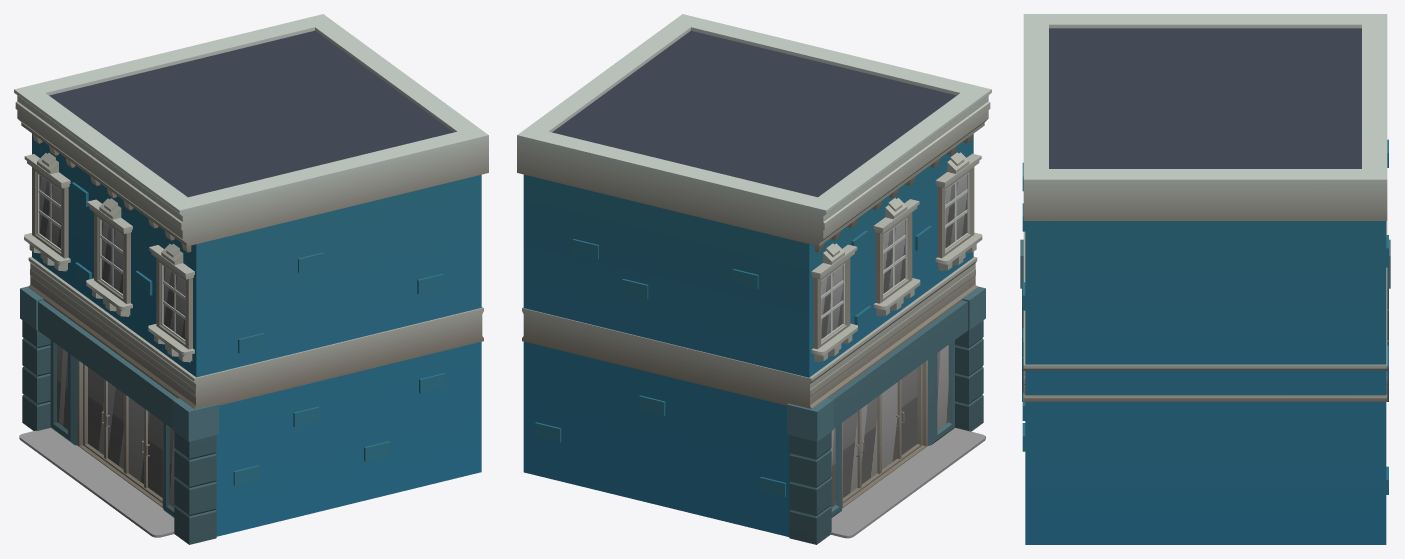
Rendered from Building_21_4_J.fbx.
3 views of the same model, side by side, from view 1: azimuth 30°, elevation 25°; view 2: azimuth 150°, elevation 25°; view 3: azimuth 270°, elevation 25° (orthographic). The views are drawn at different scales.
Parts seen in each view (by area): view 1: Building_21_4_J; view 2: Building_21_4_J; view 3: Building_21_4_J.
Part boxes in pixels (x1,y1,x2,y2): Building_21_4_J: (14,14,488,544); Building_21_4_J: (517,14,991,544); Building_21_4_J: (1020,14,1390,544).
Size of the model in its own units: 779 by 782 by 713.
